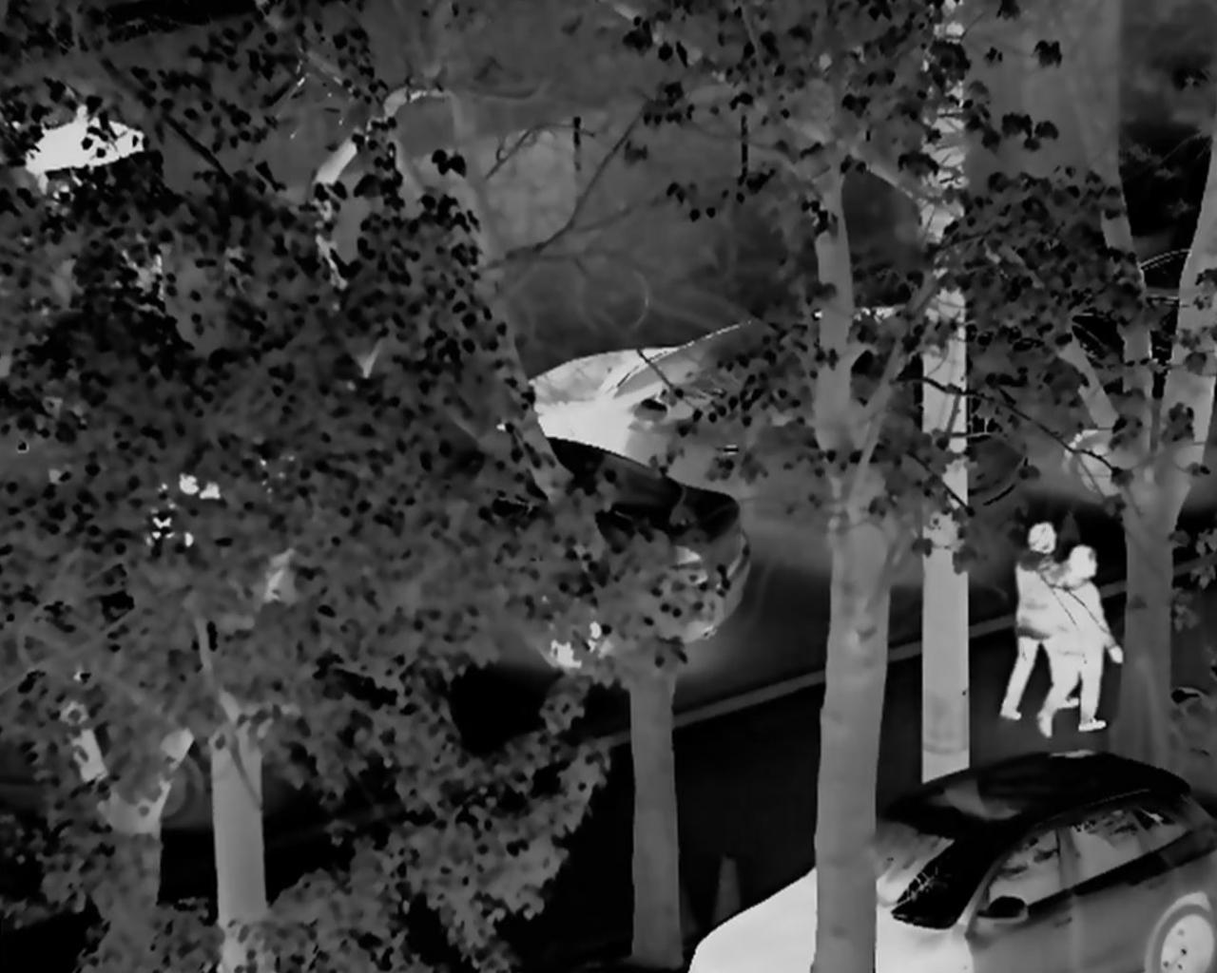person: (1038, 542, 1124, 742), (1004, 522, 1076, 715)
